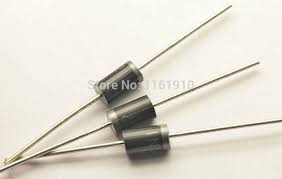diode: (70, 47, 160, 102)
